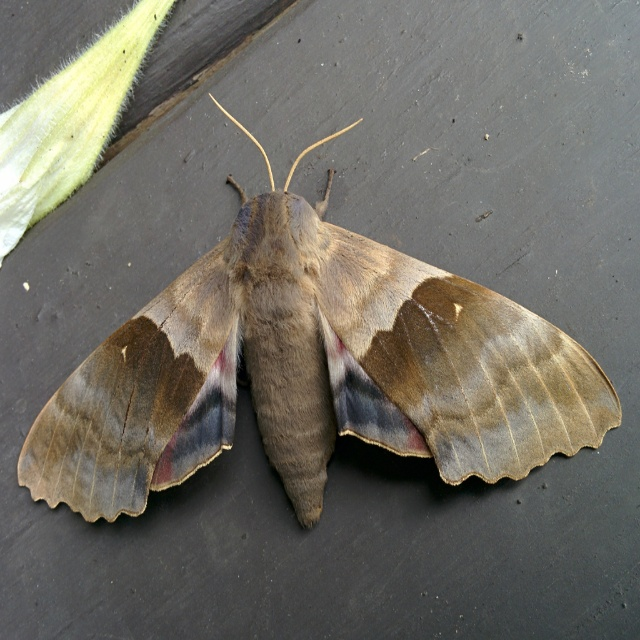Moths and butterflies: (17, 90, 624, 535)
